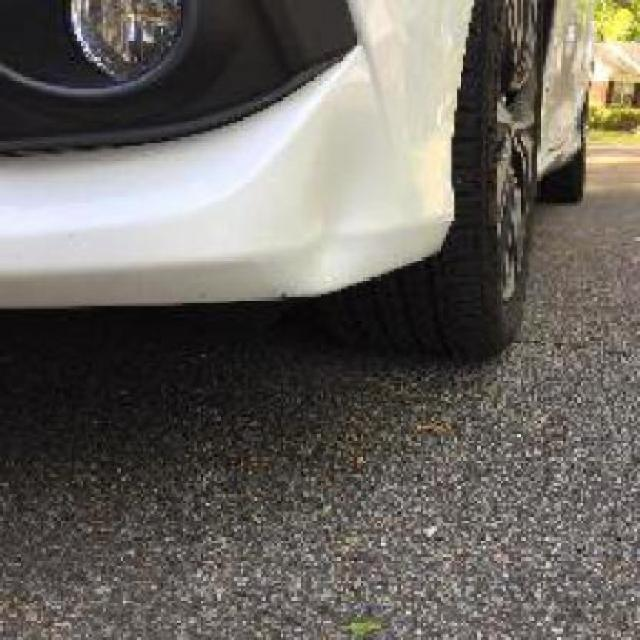dent-or-scratch: (291, 94, 427, 294)
